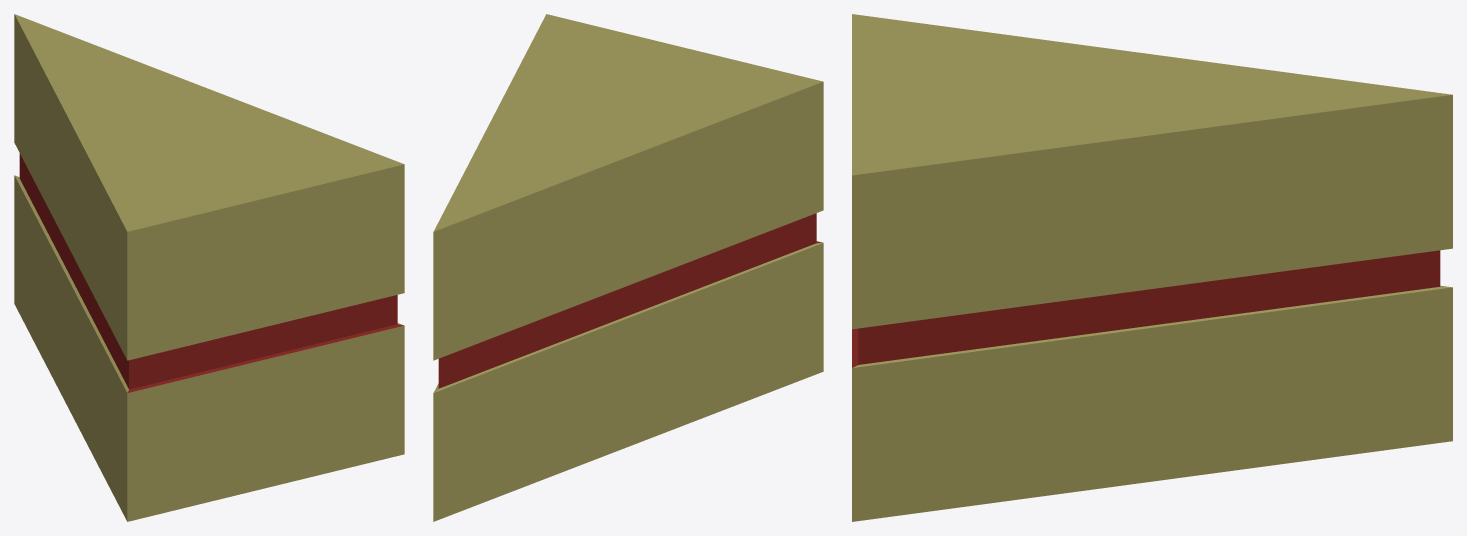
File: Cake_00v00.fbx
3 views of the same model, side by side, from view 1: azimuth 30°, elevation 25°; view 2: azimuth 150°, elevation 25°; view 3: azimuth 270°, elevation 25° (orthographic). The views are drawn at different scales.
Visible parts, largest first — view 1: Cube; view 2: Cube; view 3: Cube.
Boxes of the visible parts, box(x1,y1,x2,y2) form: Cube: box(14, 14, 404, 521); Cube: box(433, 14, 823, 521); Cube: box(852, 14, 1452, 521).
Bounding box in the file's own units: 27.35 × 27.35 × 42.99.
